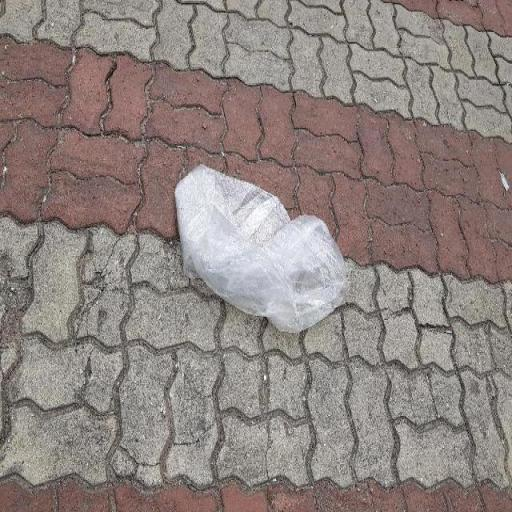plastic-bag: (172, 159, 345, 331)
